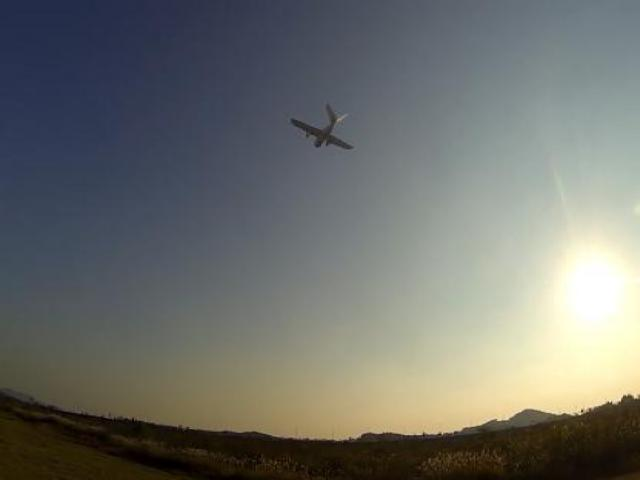uav: (285, 93, 358, 161)
